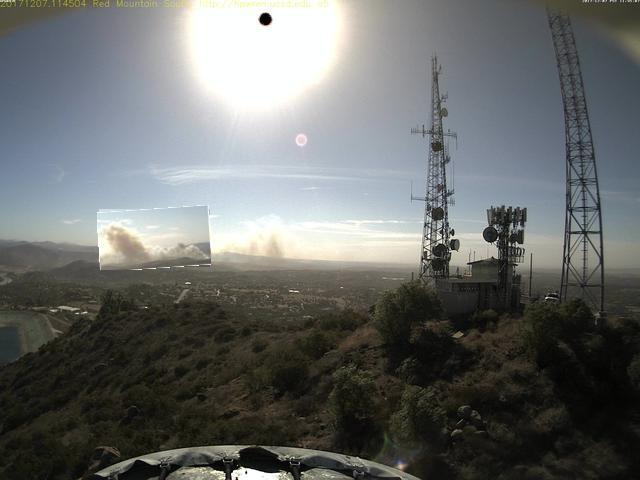smoke: (99, 208, 213, 271)
